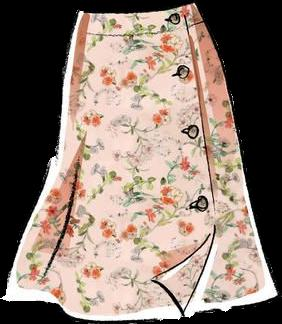Hemline: (0, 292, 281, 323)
Waistline: (71, 19, 203, 37), (77, 0, 193, 15)
